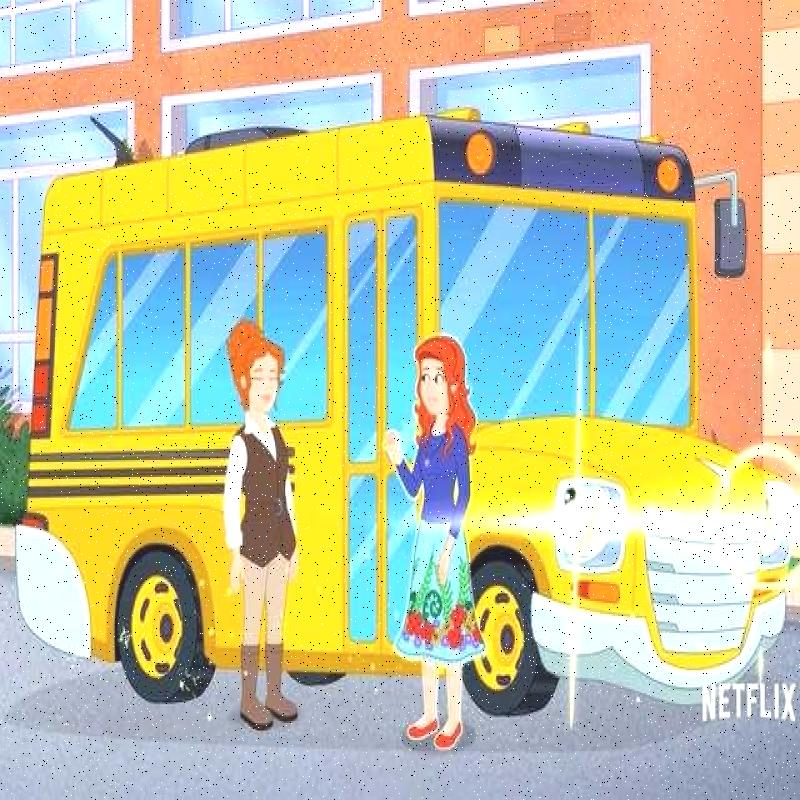bus: (30, 168, 767, 703)
